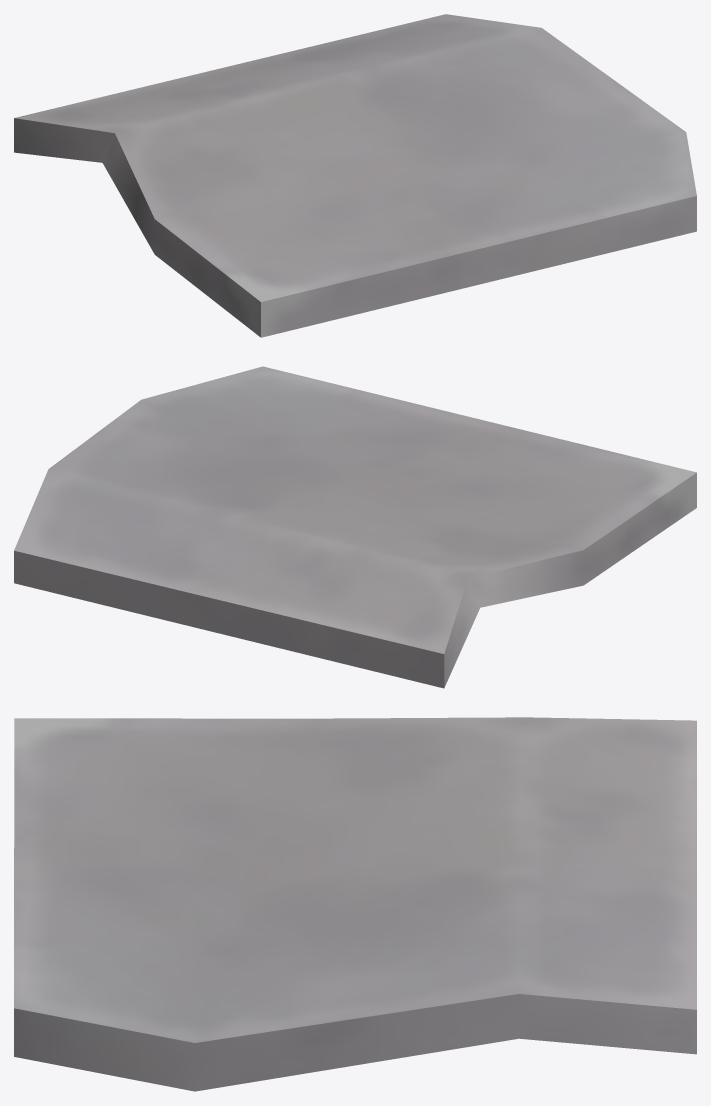
The model's file is Pfb_MetalBoard__7.fbx.
3 views of the same model, one above another, from view 1: azimuth 30°, elevation 25°; view 2: azimuth 150°, elevation 25°; view 3: azimuth 270°, elevation 25° (orthographic). The views are drawn at different scales.
Parts seen in each view (by area): view 1: Mat_MetalBoard_01_1; view 2: Mat_MetalBoard_01_1; view 3: Mat_MetalBoard_01_1.
Boxes of the visible parts, <box> form: Mat_MetalBoard_01_1: <box>14,14,696,337</box>; Mat_MetalBoard_01_1: <box>14,366,696,688</box>; Mat_MetalBoard_01_1: <box>14,717,696,1091</box>.
Bounding box in the file's own units: 0.6077 × 0.0718 × 0.5365.
Materials: 1 (1 with a texture image).
